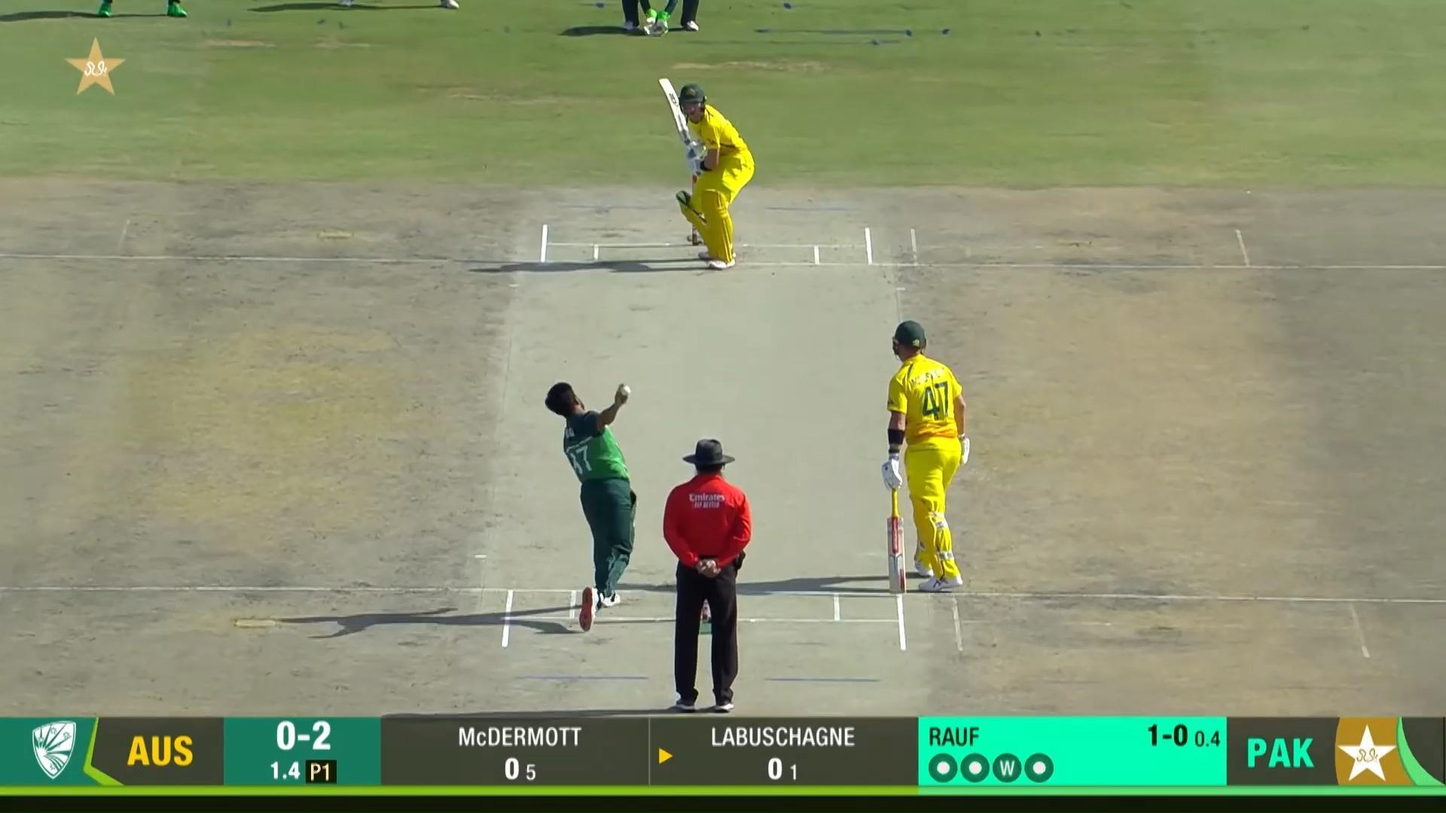BM 1: (656, 78, 756, 271)
BO: (543, 381, 642, 635)
